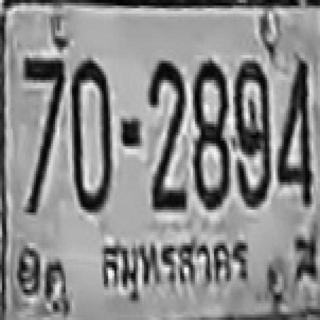N00: (70, 58, 110, 210)
N02: (147, 59, 185, 192), (146, 59, 184, 181), (150, 94, 186, 207)
N04: (276, 55, 312, 204)
N07: (22, 55, 65, 165), (21, 55, 64, 149)
N08: (191, 59, 229, 208)
N09: (233, 59, 269, 206)
P58: (94, 233, 260, 305)
